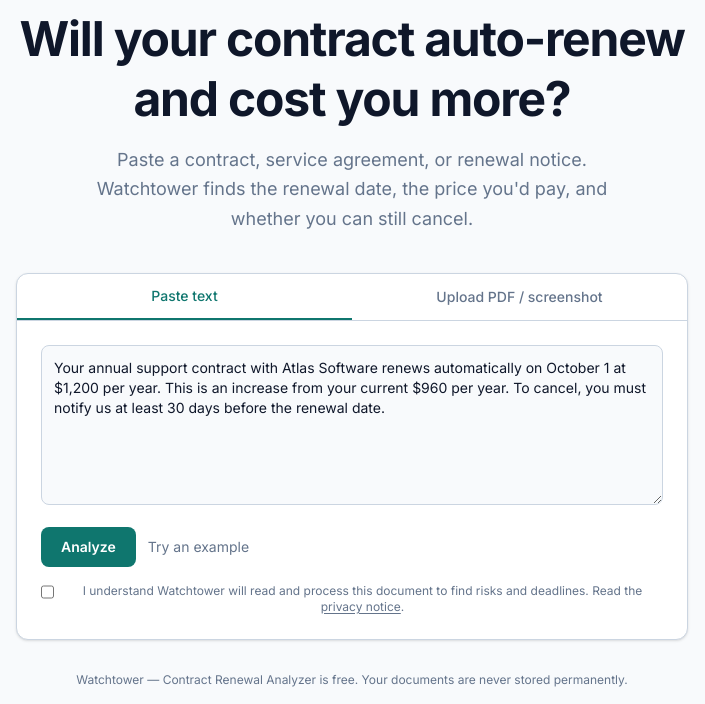
Scenario: WT-15 SEO tool + repeat hook › ToolPage shows the repeat CTA after a result
(page scrolled)
What coordinates should you click on to do the following:
click the checkbox with test id "consent-input"
I would click on:
 (48, 592)
Its box is [41,585,54,599].
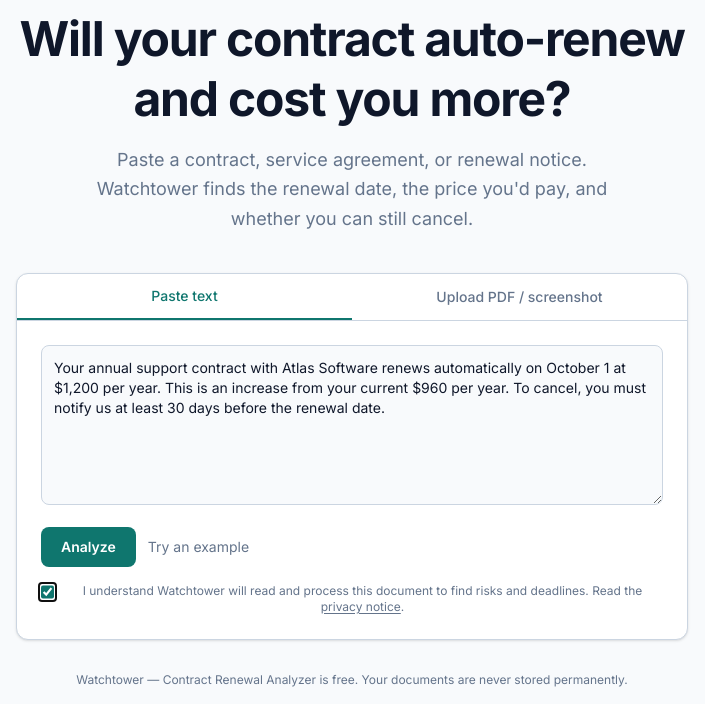
What coordinates should you click on to do the following:
click the button with test id "analyze-button"
I would click on:
 (88, 547)
Its box is [41,527,136,567].
(page scrolled)
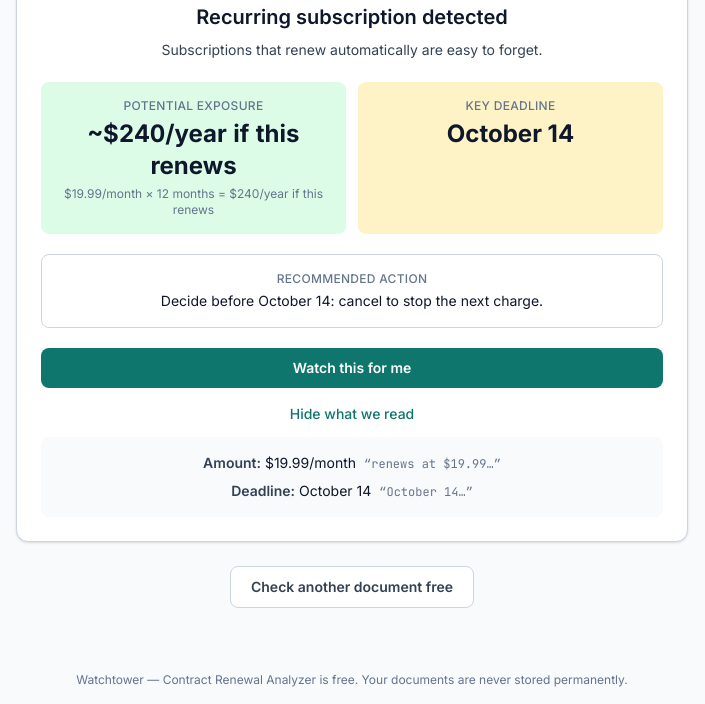
Result: the button with test id "check-another-button" is shown at [230,566,474,608]
